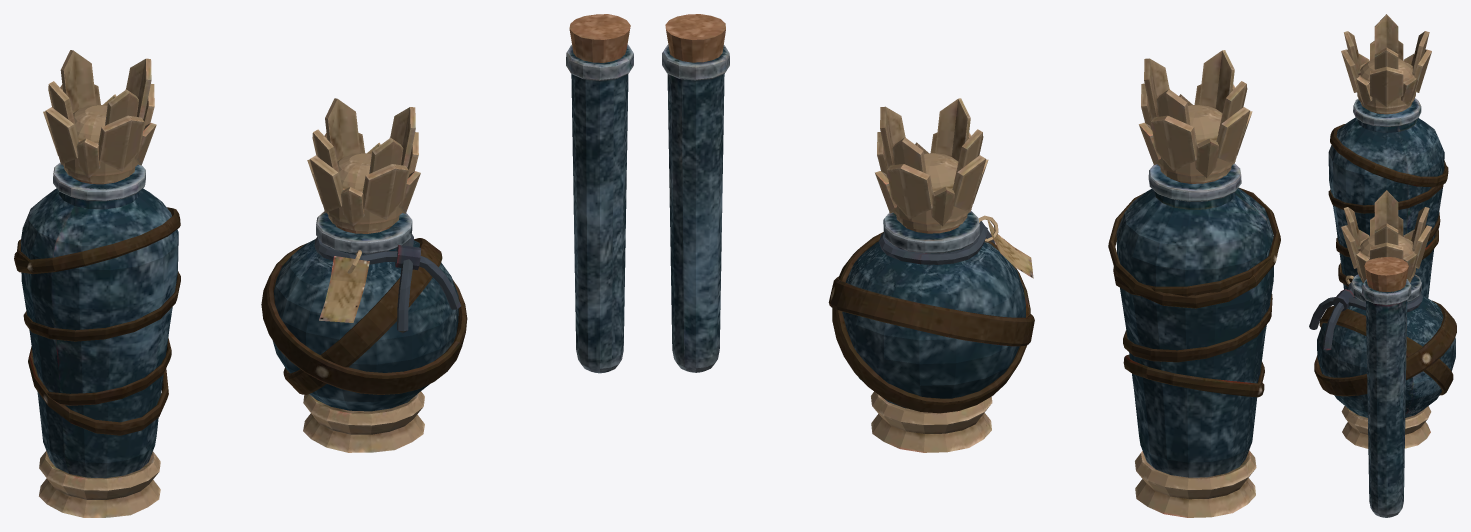
File: pocoes.glb
3 views of the same model, side by side, from view 1: azimuth 30°, elevation 25°; view 2: azimuth 150°, elevation 25°; view 3: azimuth 270°, elevation 25° (orthographic). The views are drawn at different scales.
Bounding box in the file's own units: 2.68 × 1.79 × 0.7798.
1 material, 1 textured.
